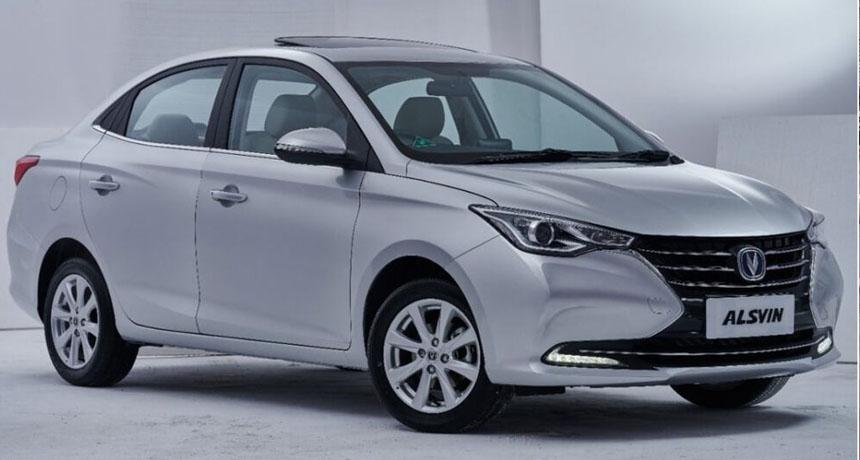Sedan: (10, 20, 847, 440)
